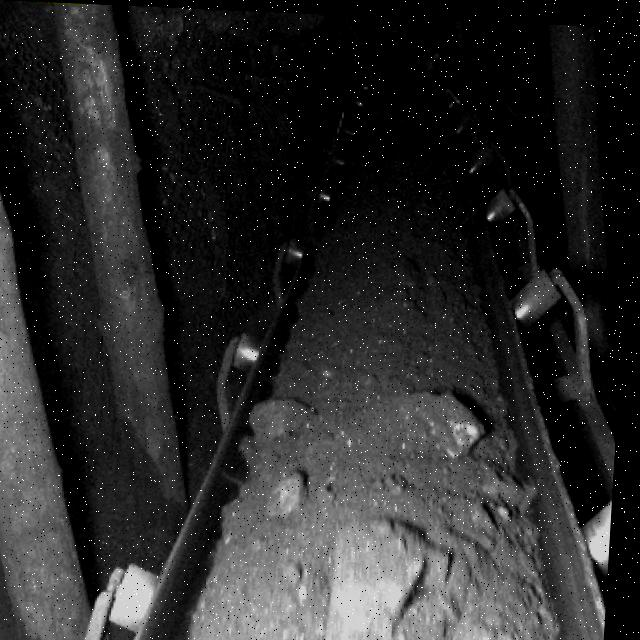large_sized_coal: (332, 517, 461, 640), (353, 381, 493, 459), (255, 397, 322, 442), (270, 466, 314, 523)
